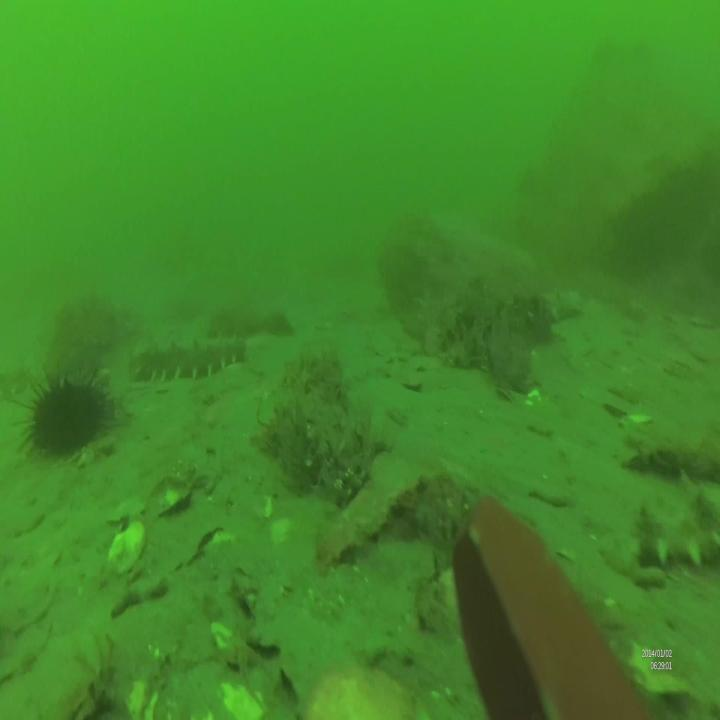echinus: (14, 367, 120, 461)
holothurian: (635, 494, 720, 578), (128, 334, 252, 384)
